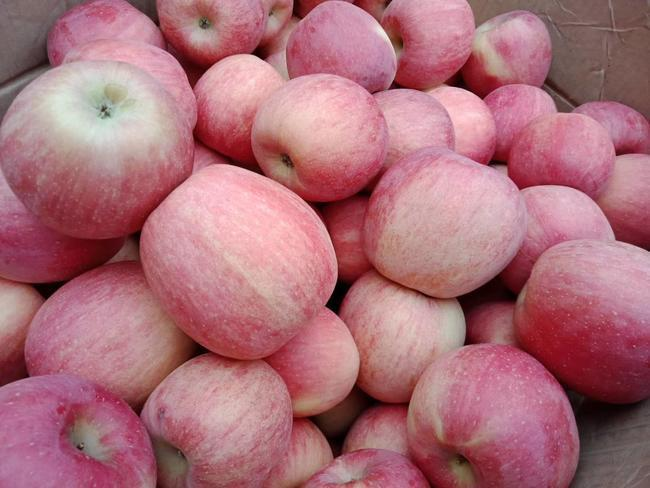apple: (135, 158, 334, 357), (2, 56, 196, 240), (403, 340, 582, 483), (366, 142, 526, 300), (21, 260, 192, 399), (513, 237, 650, 404), (251, 72, 392, 208), (146, 354, 288, 488), (340, 267, 466, 405), (1, 373, 155, 485), (502, 184, 613, 296), (285, 1, 395, 94), (505, 109, 616, 195), (156, 1, 279, 73), (381, 1, 474, 92), (463, 10, 552, 99), (595, 153, 650, 250)
